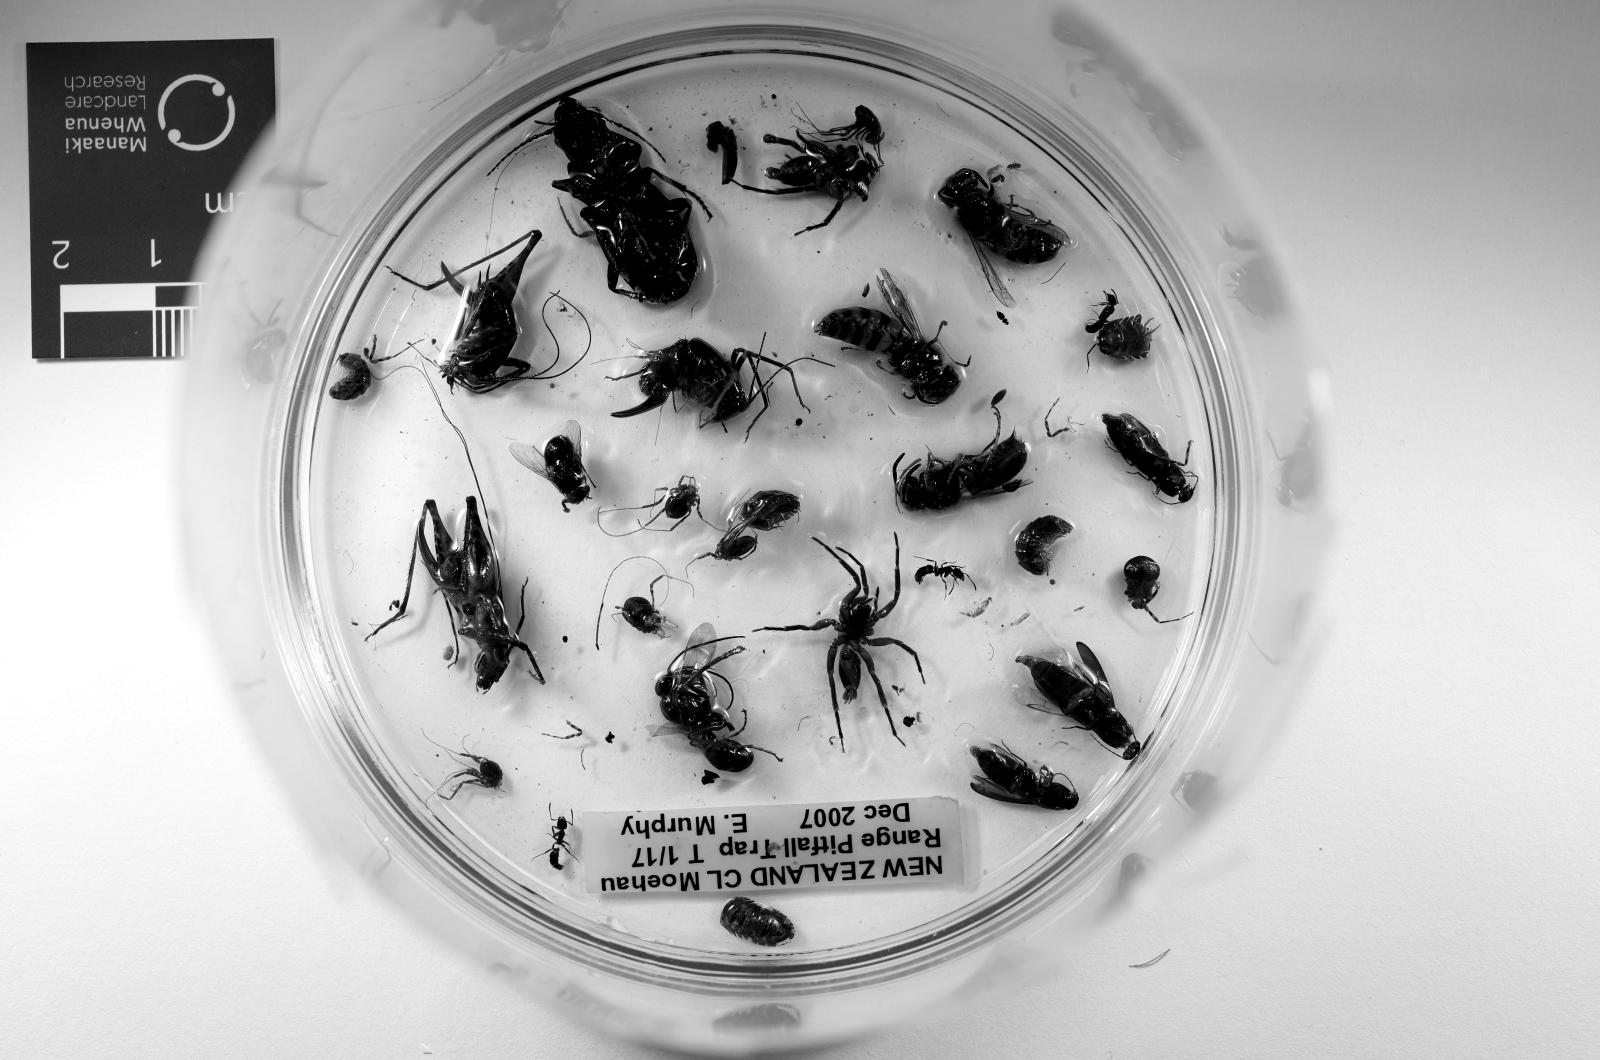araneae: (759, 543, 919, 751), (757, 134, 881, 230)
carabidae: (544, 96, 697, 302)
coleoptera: (1016, 642, 1141, 761), (1103, 413, 1193, 503), (969, 742, 1078, 810)
diptera: (510, 419, 594, 512)
formicidae: (915, 558, 974, 596), (546, 814, 572, 870), (1084, 292, 1119, 332)
hymenoptera: (653, 625, 763, 774)
isopoda: (719, 898, 793, 948), (1016, 516, 1071, 575), (328, 354, 371, 401)
opiliones: (1125, 556, 1181, 625), (641, 476, 700, 531), (438, 751, 503, 801), (822, 105, 885, 153), (697, 525, 759, 562), (618, 596, 666, 636)
orthoptera: (365, 497, 544, 692), (419, 230, 540, 394), (613, 338, 799, 428)
vespidae: (816, 270, 966, 403), (938, 168, 1069, 308), (894, 432, 1028, 509)
